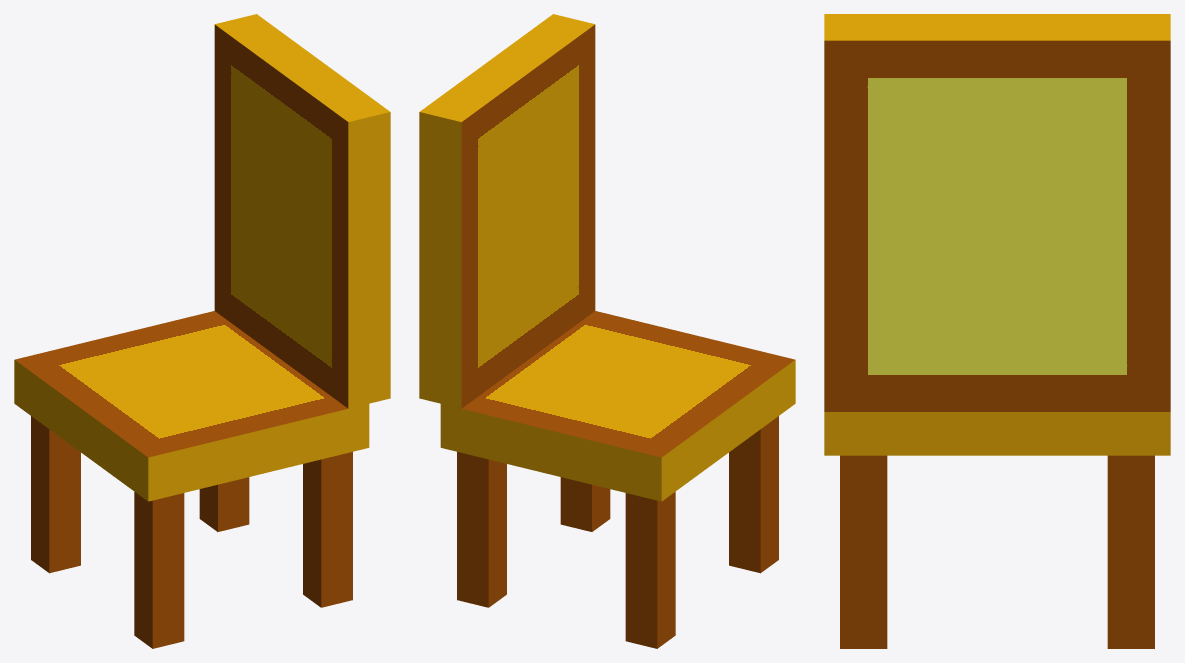
The model's file is lotek_tile_040.gltf.
The picture shows the model from 3 angles, left to right: view 1: azimuth 30°, elevation 25°; view 2: azimuth 150°, elevation 25°; view 3: azimuth 270°, elevation 25°; orthographic projection. The views are drawn at different scales.
Visible parts, largest first — view 1: lotek_tile_040; view 2: lotek_tile_040; view 3: lotek_tile_040.
Boxes of the visible parts, x1,y1,x2,y2 form: lotek_tile_040: [14, 14, 390, 648]; lotek_tile_040: [419, 14, 795, 648]; lotek_tile_040: [824, 14, 1170, 648].
Bounding box in the file's own units: 11.5 × 22 × 11.
Materials: 1 (1 with a texture image).
